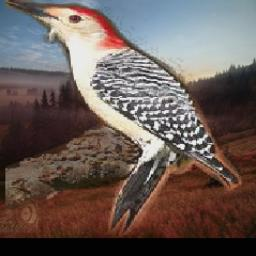Woodpecker: (4, 0, 243, 237)
